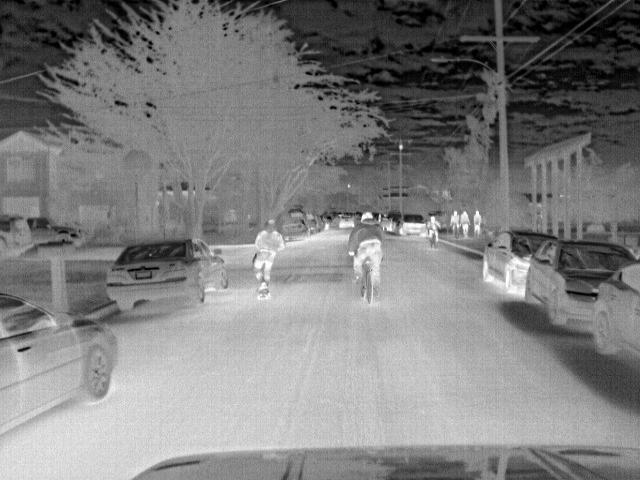car: (1, 287, 118, 439), (105, 238, 231, 315), (527, 242, 637, 330), (590, 258, 640, 363), (481, 230, 559, 294), (1, 214, 36, 258), (26, 216, 80, 244), (278, 216, 311, 241), (400, 214, 426, 236), (295, 211, 318, 235), (386, 210, 402, 231), (338, 213, 357, 229)
person: (346, 210, 382, 297), (251, 220, 285, 296), (423, 214, 442, 244), (471, 208, 484, 237), (459, 209, 471, 239), (448, 210, 461, 230)
